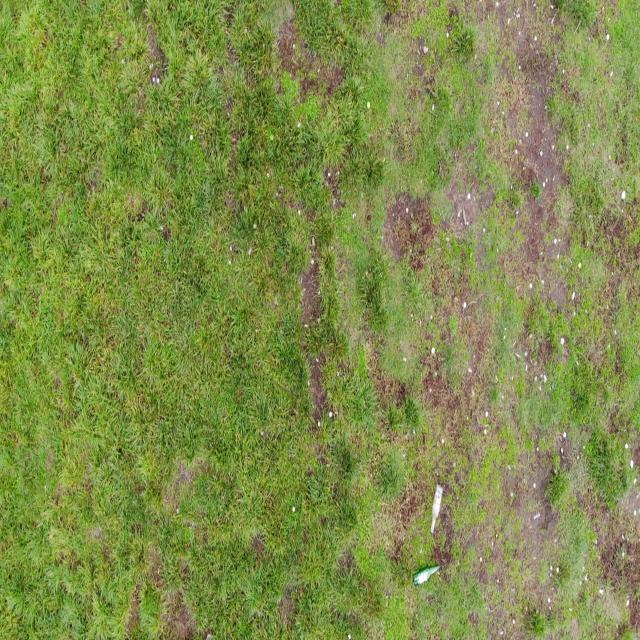rubbish: (430, 482, 444, 535), (413, 565, 440, 586)
